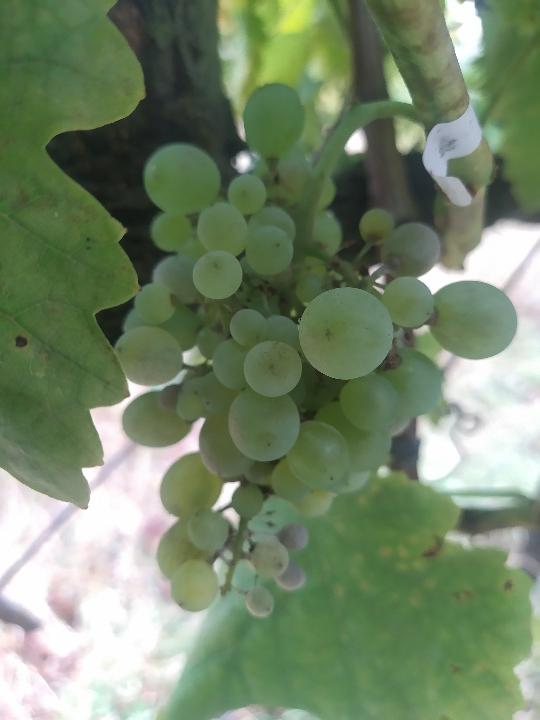grape: (109, 79, 520, 621)
